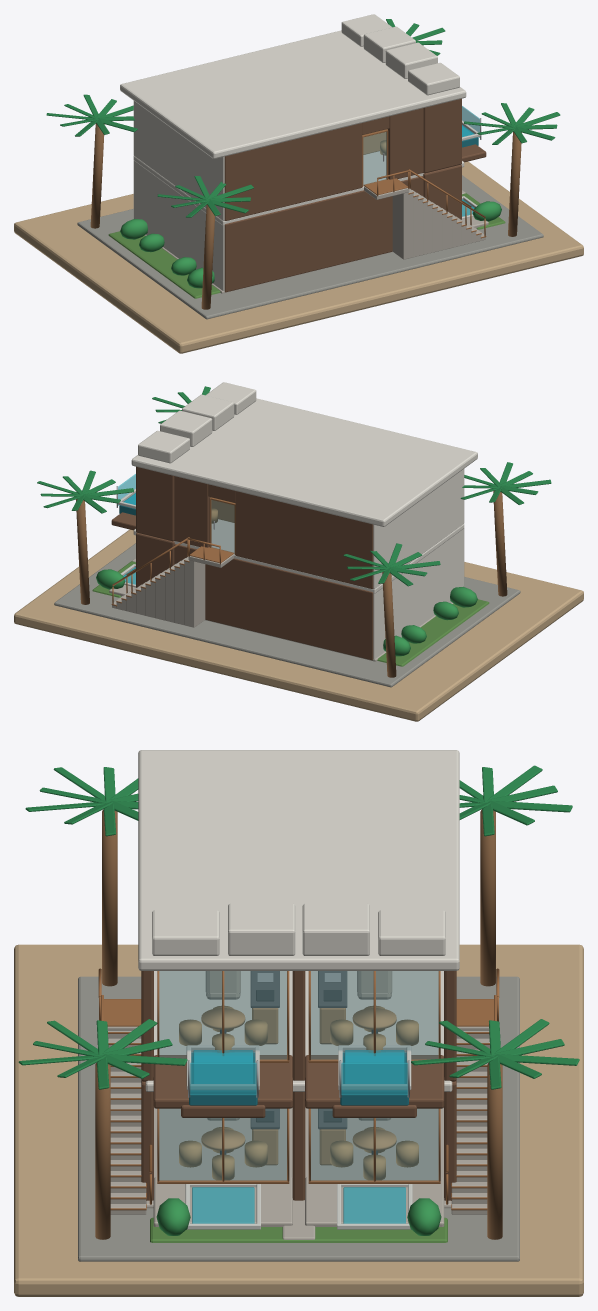
File: sopro-v2.glb
The picture shows the model from 3 angles, top to bottom: view 1: azimuth 30°, elevation 25°; view 2: azimuth 150°, elevation 25°; view 3: azimuth 270°, elevation 25°; orthographic projection. The views are drawn at different scales.
Visible parts, largest first — view 1: ARCH_Roof, SITE_SandBase, ARCH_SideWall_Ground_-3.30, SITE_Paving, ARCH_SideWall_UpperBack_Left, ARCH_BackWall_Ground, ARCH_BackWall_Upper, FACADE_Fin_Upper_-3.32, ARCH_SideWall_UpperFront_Left, ARCH_UpperSlab, SITE_BackGarden, FACADE_Fin_Ground_-3.32 (+12 smaller); view 2: ARCH_Roof, SITE_SandBase, ARCH_SideWall_Ground_+3.30, SITE_Paving, ARCH_SideWall_UpperBack_Right, ARCH_BackWall_Ground, ARCH_BackWall_Upper, FACADE_Fin_Upper_+3.32, ARCH_SideWall_UpperFront_Right, ARCH_UpperSlab, SITE_BackGarden, FACADE_Fin_Ground_+3.32 (+12 smaller); view 3: SITE_SandBase, ARCH_Roof, SITE_Paving, ARCH_UpperSlab, FACADE_U_Right_glass, FACADE_U_Left_glass, ARCH_Foundation, FACADE_G_Left_glass, FACADE_G_Right_glass, TERRACE_Ground_Left, TERRACE_Ground_Right, SITE_FrontGarden (+39 smaller).
Boxes of the visible parts, left/top/right/bottom form: ARCH_Roof: left=120, top=30, right=466, bottom=158; SITE_SandBase: left=14, top=161, right=583, bottom=353; ARCH_SideWall_Ground_-3.30: left=224, top=176, right=423, bottom=292; SITE_Paving: left=77, top=175, right=543, bottom=319; ARCH_SideWall_UpperBack_Left: left=224, top=123, right=362, bottom=220; ARCH_BackWall_Ground: left=133, top=160, right=224, bottom=291; ARCH_BackWall_Upper: left=133, top=101, right=224, bottom=220; FACADE_Fin_Upper_-3.32: left=423, top=98, right=461, bottom=173; ARCH_SideWall_UpperFront_Left: left=387, top=108, right=423, bottom=179; ARCH_UpperSlab: left=133, top=151, right=464, bottom=225; SITE_BackGarden: left=108, top=231, right=220, bottom=298; FACADE_Fin_Ground_-3.32: left=423, top=164, right=461, bottom=219; ARCH_Roof: left=131, top=398, right=477, bottom=526; SITE_SandBase: left=14, top=529, right=583, bottom=721; ARCH_SideWall_Ground_+3.30: left=174, top=544, right=373, bottom=660; SITE_Paving: left=54, top=543, right=520, bottom=687; ARCH_SideWall_UpperBack_Right: left=235, top=491, right=373, bottom=588; ARCH_BackWall_Ground: left=373, top=528, right=464, bottom=659; ARCH_BackWall_Upper: left=373, top=469, right=464, bottom=588; FACADE_Fin_Upper_+3.32: left=136, top=466, right=174, bottom=541; ARCH_SideWall_UpperFront_Right: left=174, top=476, right=210, bottom=547; ARCH_UpperSlab: left=133, top=519, right=464, bottom=593; SITE_BackGarden: left=377, top=599, right=489, bottom=666; FACADE_Fin_Ground_+3.32: left=136, top=532, right=174, bottom=587; SITE_SandBase: left=14, top=944, right=583, bottom=1296; ARCH_Roof: left=138, top=750, right=459, bottom=970; SITE_Paving: left=78, top=976, right=519, bottom=1261; ARCH_UpperSlab: left=145, top=971, right=452, bottom=1091; FACADE_U_Right_glass: left=311, top=971, right=438, bottom=1059; FACADE_U_Left_glass: left=159, top=971, right=286, bottom=1059; ARCH_Foundation: left=146, top=1107, right=451, bottom=1208; FACADE_G_Left_glass: left=159, top=1109, right=286, bottom=1180; FACADE_G_Right_glass: left=311, top=1109, right=438, bottom=1180; TERRACE_Ground_Left: left=153, top=1177, right=292, bottom=1226; TERRACE_Ground_Right: left=305, top=1177, right=444, bottom=1226; SITE_FrontGarden: left=150, top=1217, right=447, bottom=1242.
Size of the model in its own units: 17.52 by 7.21 by 12.5.
